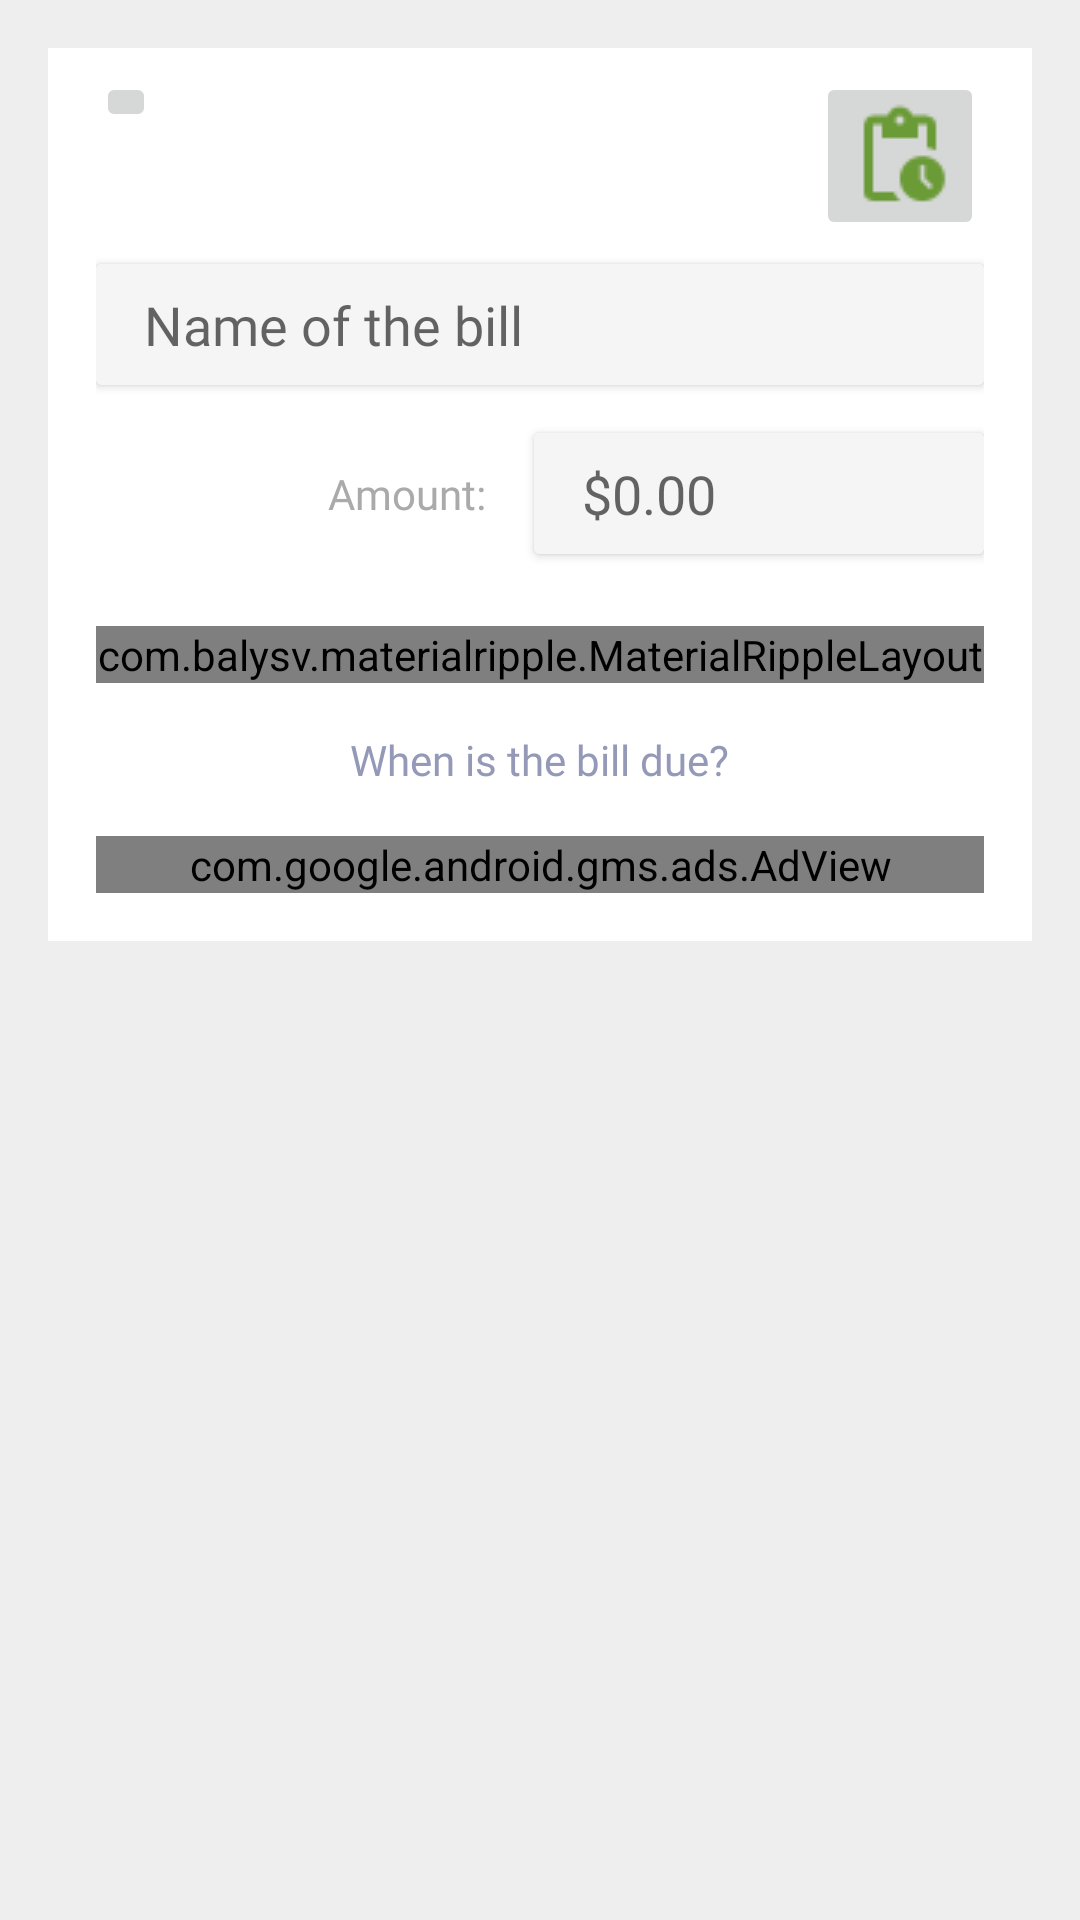

Named icons in this screenshot (1080 × 1920) and their bounding boxes, (x1, y1, x2, y2):
pending actions: (828, 90, 972, 222)
